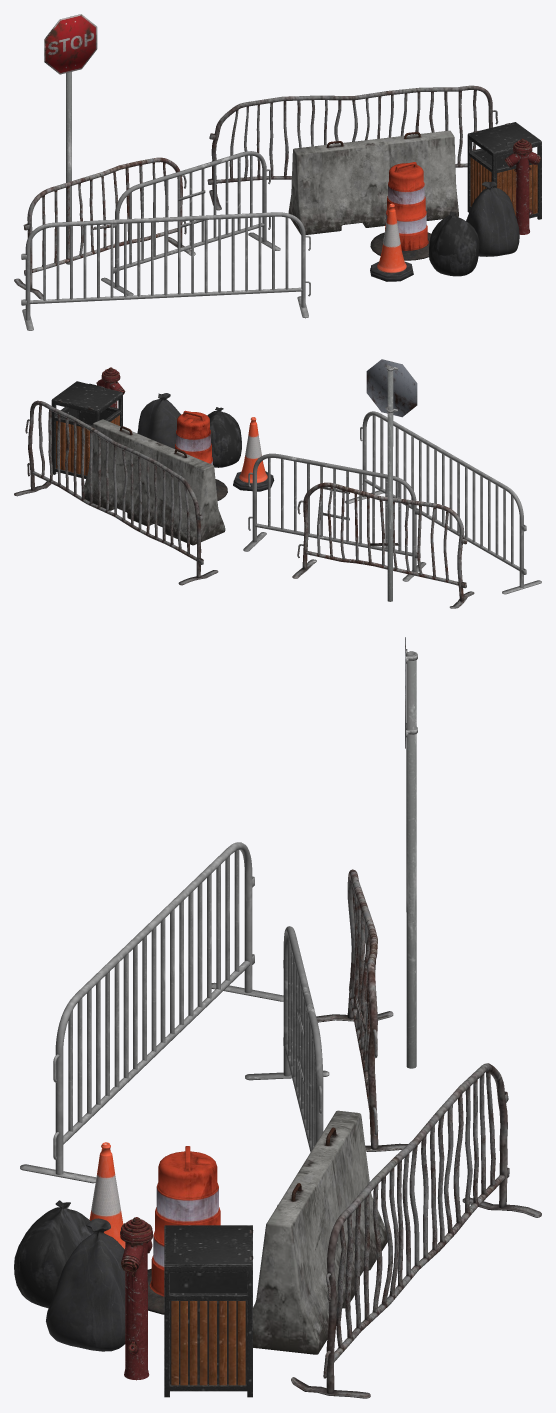
3 renders of one model, top to bottom at view 1: azimuth 30°, elevation 25°; view 2: azimuth 150°, elevation 25°; view 3: azimuth 270°, elevation 25°, orthographic. The views are drawn at different scales.
Parts seen in each view (by area): view 1: concrete_barrier, metal_barrier2, metal_barrier_damaged2, metal_barrier1, Bin, metal_barrier_damaged1, Barrel, stop, trashbag2, trashbag, Cone, Hydrant; view 2: concrete_barrier, metal_barrier_damaged2, metal_barrier2, metal_barrier_damaged1, metal_barrier1, Bin, stop, Barrel, trashbag2, trashbag, Cone, Hydrant; view 3: metal_barrier2, metal_barrier_damaged2, concrete_barrier, Bin, trashbag2, metal_barrier1, metal_barrier_damaged1, Barrel, trashbag, stop, Hydrant, Cone.
Boxes of the visible parts, x1=… form: concrete_barrier: x1=288, y1=130, x2=458, y2=234; metal_barrier2: x1=21, y1=212, x2=310, y2=330; metal_barrier_damaged2: x1=207, y1=85, x2=498, y2=210; metal_barrier1: x1=101, y1=151, x2=280, y2=295; Bin: x1=467, y1=122, x2=541, y2=219; metal_barrier_damaged1: x1=14, y1=157, x2=195, y2=299; Barrel: x1=370, y1=162, x2=431, y2=260; stop: x1=44, y1=14, x2=97, y2=264; trashbag2: x1=466, y1=181, x2=519, y2=256; trashbag: x1=428, y1=211, x2=479, y2=276; Cone: x1=370, y1=203, x2=413, y2=281; Hydrant: x1=504, y1=138, x2=540, y2=234; concrete_barrier: x1=84, y1=419, x2=225, y2=545; metal_barrier_damaged2: x1=14, y1=400, x2=218, y2=585; metal_barrier2: x1=345, y1=411, x2=541, y2=594; metal_barrier_damaged1: x1=292, y1=482, x2=474, y2=608; metal_barrier1: x1=243, y1=453, x2=426, y2=581; Bin: x1=51, y1=381, x2=122, y2=478; stop: x1=366, y1=359, x2=417, y2=601; Barrel: x1=175, y1=410, x2=227, y2=500; trashbag2: x1=137, y1=393, x2=180, y2=448; trashbag: x1=207, y1=407, x2=241, y2=467; Cone: x1=233, y1=417, x2=274, y2=491; Hydrant: x1=96, y1=367, x2=125, y2=407; metal_barrier2: x1=20, y1=842, x2=283, y2=1183; metal_barrier_damaged2: x1=291, y1=1063, x2=541, y2=1398; concrete_barrier: x1=253, y1=1110, x2=387, y2=1354; Bin: x1=164, y1=1225, x2=253, y2=1397; trashbag2: x1=46, y1=1218, x2=125, y2=1351; metal_barrier1: x1=245, y1=926, x2=329, y2=1205; metal_barrier_damaged1: x1=316, y1=869, x2=407, y2=1151; Barrel: x1=147, y1=1146, x2=220, y2=1314; trashbag: x1=14, y1=1200, x2=94, y2=1308; stop: x1=405, y1=637, x2=417, y2=1068; Hydrant: x1=120, y1=1217, x2=152, y2=1380; Cone: x1=89, y1=1142, x2=125, y2=1248.
Bounding box in the file's own units: 12.83 × 6.01 × 6.84.
21 materials, 21 textured.
